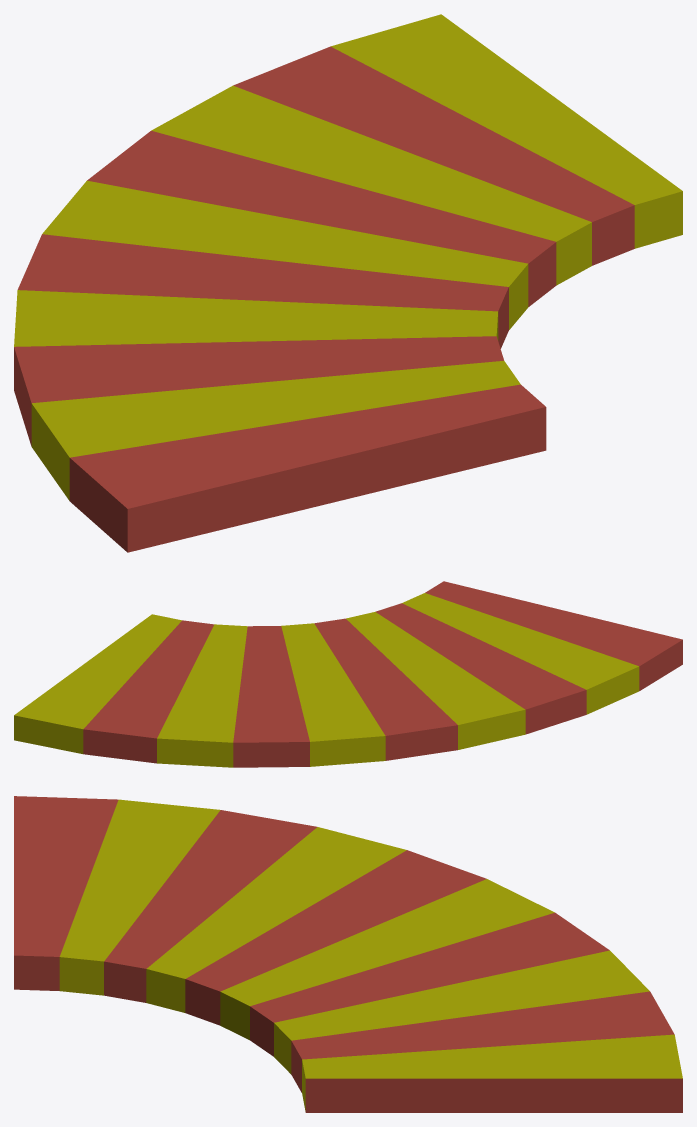
Rendered from road_curve.fbx.
3 views of the same model, one above another, from view 1: azimuth 30°, elevation 25°; view 2: azimuth 150°, elevation 25°; view 3: azimuth 270°, elevation 25° (orthographic). The views are drawn at different scales.
Visible parts, largest first — view 1: road_curve; view 2: road_curve; view 3: road_curve.
Part boxes in pixels (x1=…): road_curve: x1=14, y1=14, x2=682, y2=552; road_curve: x1=14, y1=581, x2=682, y2=767; road_curve: x1=14, y1=796, x2=682, y2=1112.
Size of the model in its own units: 17.73 by 0.9985 by 17.73.
